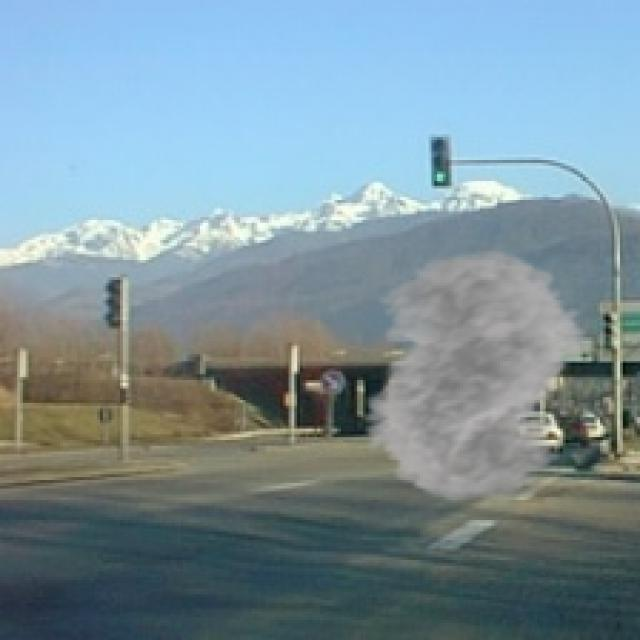smoke: (334, 248, 606, 503)
